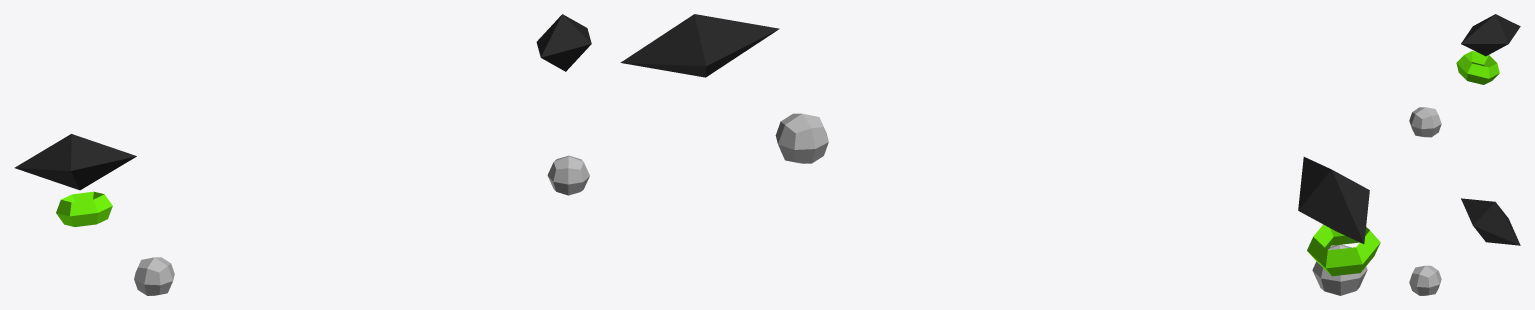
File: SM_Chr_Attach_Earrings_Female_01.fbx
3 renders of one model, left to right at view 1: azimuth 30°, elevation 25°; view 2: azimuth 150°, elevation 25°; view 3: azimuth 270°, elevation 25°, orthographic. The views are drawn at different scales.
Parts seen in each view (by area): view 1: SM_Chr_Attach_Earrings_Female_01; view 2: SM_Chr_Attach_Earrings_Female_01; view 3: SM_Chr_Attach_Earrings_Female_01.
Boxes of the visible parts, <box> form: SM_Chr_Attach_Earrings_Female_01: <box>14,14,591,295</box>; SM_Chr_Attach_Earrings_Female_01: <box>620,14,1380,295</box>; SM_Chr_Attach_Earrings_Female_01: <box>1409,14,1520,295</box>.
Bounding box in the file's own units: 31.03 × 7.18 × 6.67.
